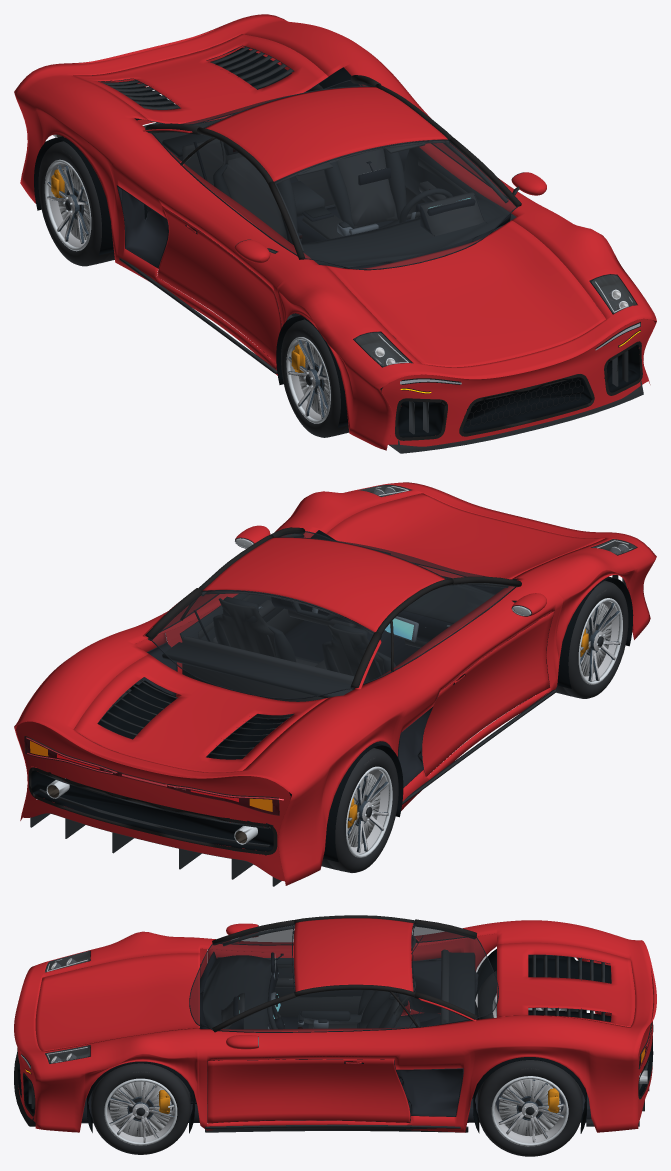
The model's file is ZeroGapR_complete_unity.fbx.
3 renders of one model, top to bottom at view 1: azimuth 30°, elevation 25°; view 2: azimuth 150°, elevation 25°; view 3: azimuth 270°, elevation 25°, orthographic. The views are drawn at different scales.
Visible parts, largest first — view 1: Body_LOD0, Glass_LOD0, Trim_LOD0, Interior_LOD0, Door_R_LOD0, Tire_RR_LOD0, Tire_FR_LOD0, Lights_LOD0, Wheel_RR_LOD0, Wheel_FR_LOD0, BrakeDisc_RR_LOD0, BrakeDisc_FR_LOD0; view 2: Body_LOD0, Trim_LOD0, Glass_LOD0, Interior_LOD0, Door_R_LOD0, Lights_LOD0, Tire_RR_LOD0, Tire_FR_LOD0, Wheel_RR_LOD0, Wheel_FR_LOD0, BrakeDisc_RR_LOD0, BrakeDisc_FR_LOD0; view 3: Body_LOD0, Glass_LOD0, Trim_LOD0, Interior_LOD0, Door_L_LOD0, Tire_RL_LOD0, Tire_FL_LOD0, Wheel_RL_LOD0, Wheel_FL_LOD0, BrakeDisc_RL_LOD0, BrakeDisc_FL_LOD0, Lights_LOD0 (+2 smaller).
Part boxes in pixels (x1,y1,x2,y2): Body_LOD0: [14, 14, 656, 450]; Glass_LOD0: [153, 80, 523, 268]; Trim_LOD0: [34, 45, 643, 453]; Interior_LOD0: [162, 134, 516, 333]; Door_R_LOD0: [157, 206, 281, 364]; Tire_RR_LOD0: [38, 141, 114, 266]; Tire_FR_LOD0: [281, 319, 349, 437]; Lights_LOD0: [354, 274, 640, 393]; Wheel_RR_LOD0: [44, 159, 91, 251]; Wheel_FR_LOD0: [286, 337, 330, 423]; BrakeDisc_RR_LOD0: [58, 166, 89, 240]; BrakeDisc_FR_LOD0: [298, 343, 329, 414]; Body_LOD0: [14, 482, 656, 885]; Trim_LOD0: [24, 527, 633, 886]; Glass_LOD0: [151, 531, 531, 697]; Interior_LOD0: [162, 533, 508, 734]; Door_R_LOD0: [422, 611, 554, 776]; Lights_LOD0: [24, 485, 636, 815]; Tire_RR_LOD0: [321, 748, 398, 872]; Tire_FR_LOD0: [549, 580, 628, 698]; Wheel_RR_LOD0: [346, 766, 392, 857]; Wheel_FR_LOD0: [578, 598, 622, 684]; BrakeDisc_RR_LOD0: [347, 773, 380, 847]; BrakeDisc_FR_LOD0: [580, 603, 611, 676]; Body_LOD0: [14, 918, 656, 1132]; Glass_LOD0: [190, 923, 497, 1047]; Trim_LOD0: [14, 915, 653, 1133]; Interior_LOD0: [190, 924, 475, 1103]; Door_L_LOD0: [207, 1059, 410, 1123]; Tire_RL_LOD0: [477, 1060, 582, 1156]; Tire_FL_LOD0: [91, 1063, 190, 1154]; Wheel_RL_LOD0: [491, 1076, 568, 1146]; Wheel_FL_LOD0: [104, 1078, 177, 1145]; BrakeDisc_RL_LOD0: [499, 1079, 561, 1136]; BrakeDisc_FL_LOD0: [109, 1081, 171, 1136]; Lights_LOD0: [21, 950, 652, 1073].
Size of what is drawn, in the model's own units: 2.01 by 1.2 by 4.46.
15 materials, 3 textured.
